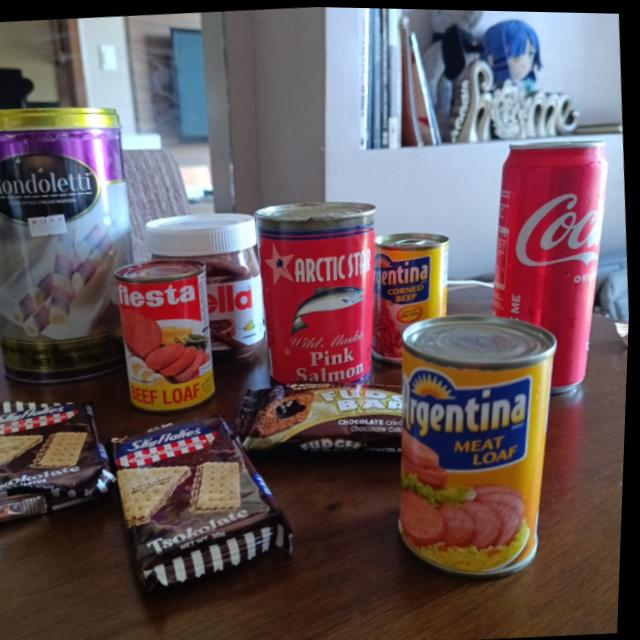coke: (481, 130, 631, 395)
